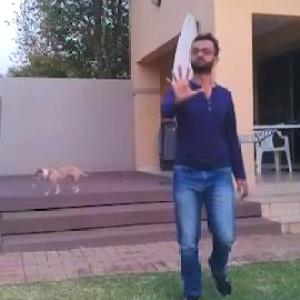follow_hand: (163, 56, 204, 104)
